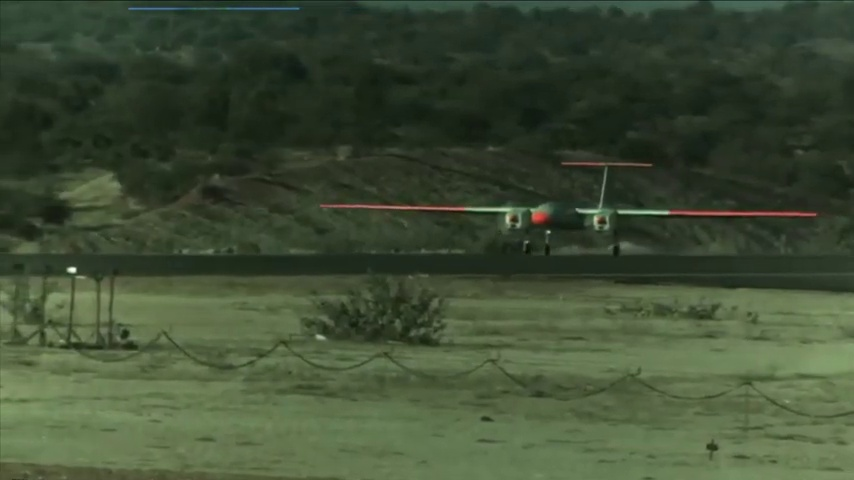military drone: (319, 162, 819, 255)
